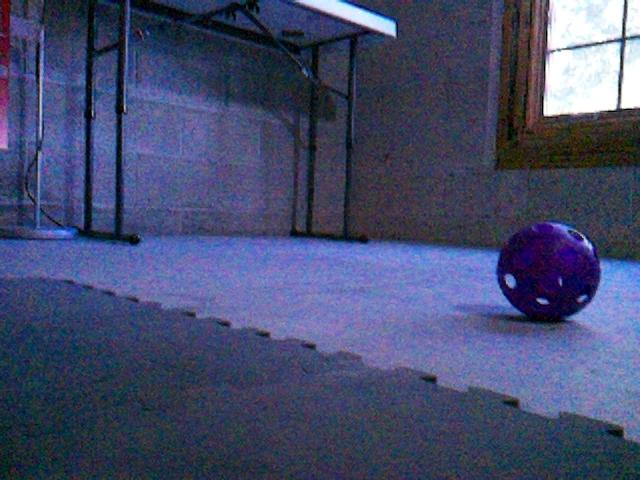Purple: (493, 220, 602, 322)
